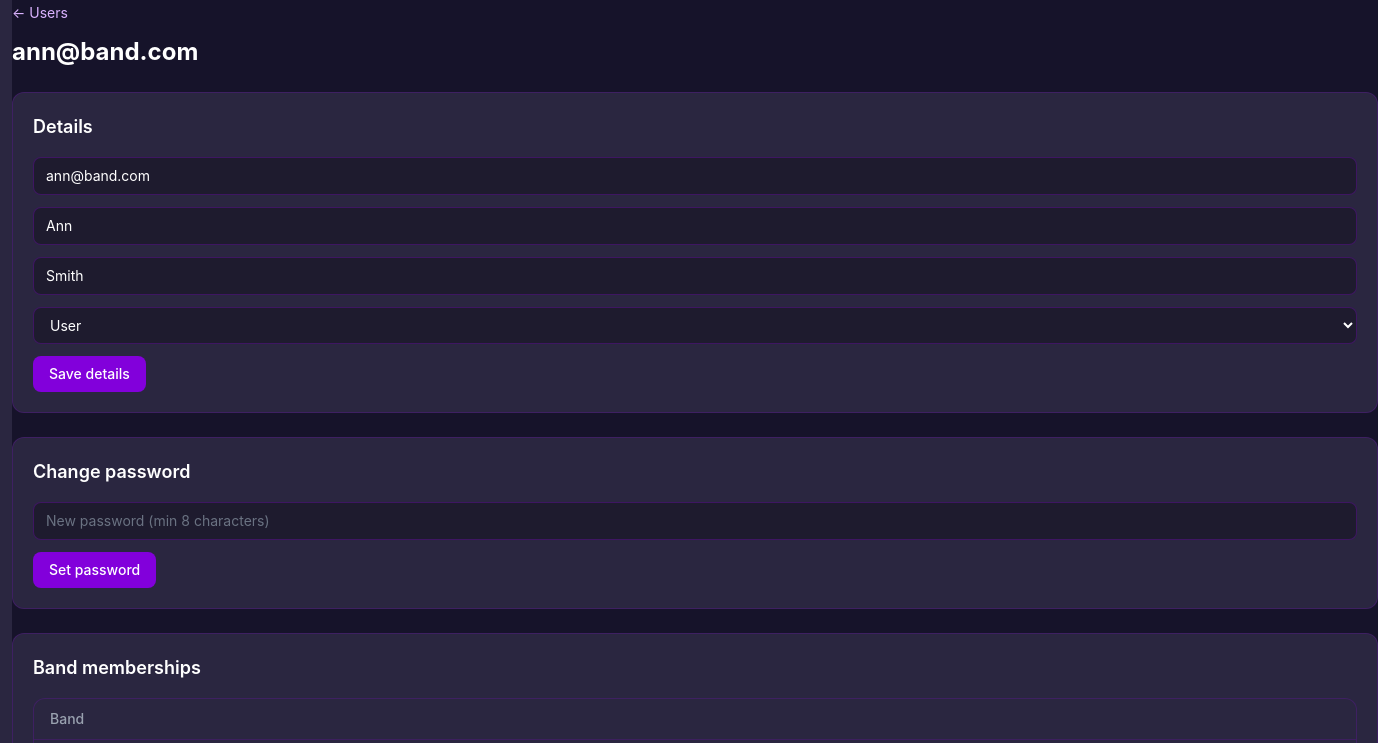
Scenario: UserDetailPage edit fields › surfaces a server error (e.g. EMAIL_TAKEN)
The image size is (1378, 743).
Check: the field named "Email" is shown, box [33,157,1357,195]
Click the button "Save details": click(89, 374) [33,356,146,392]
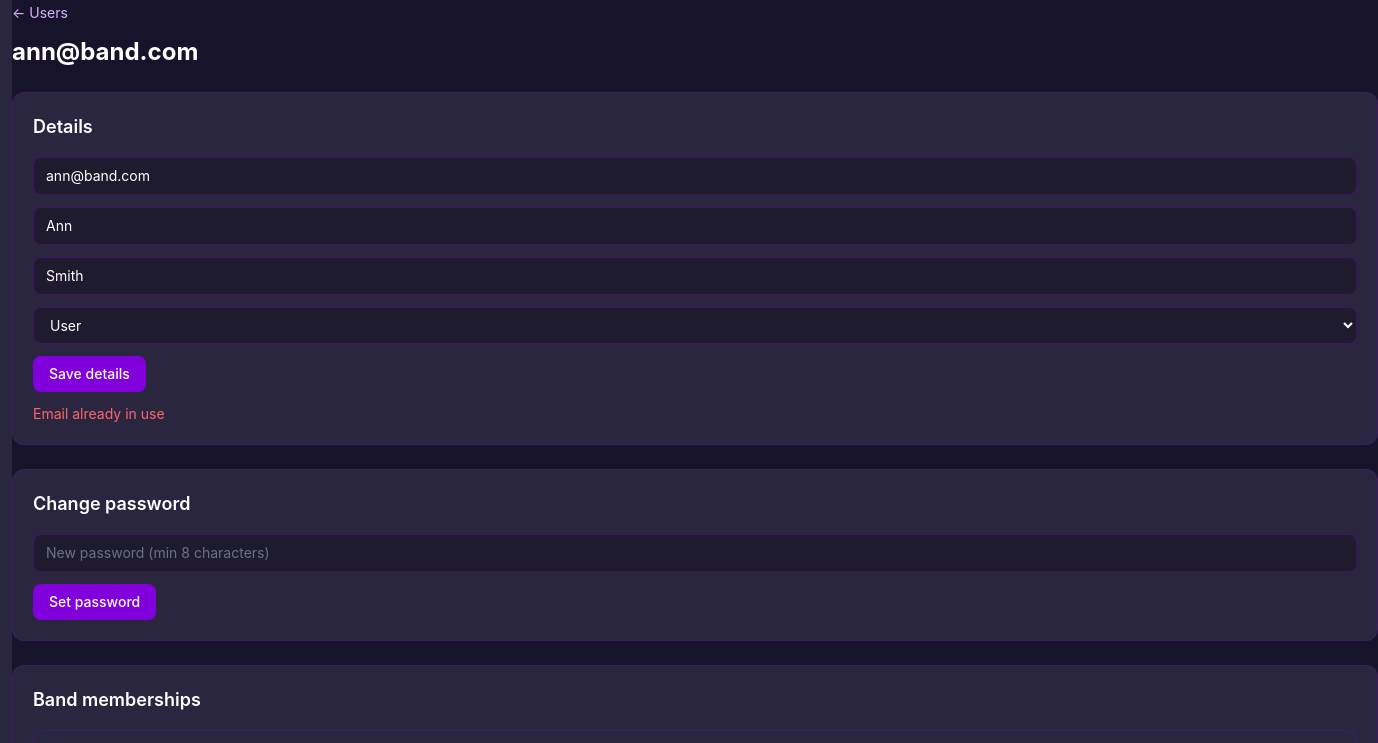
Check: the text "Email already in use" is shown, box [33,405,165,422]
